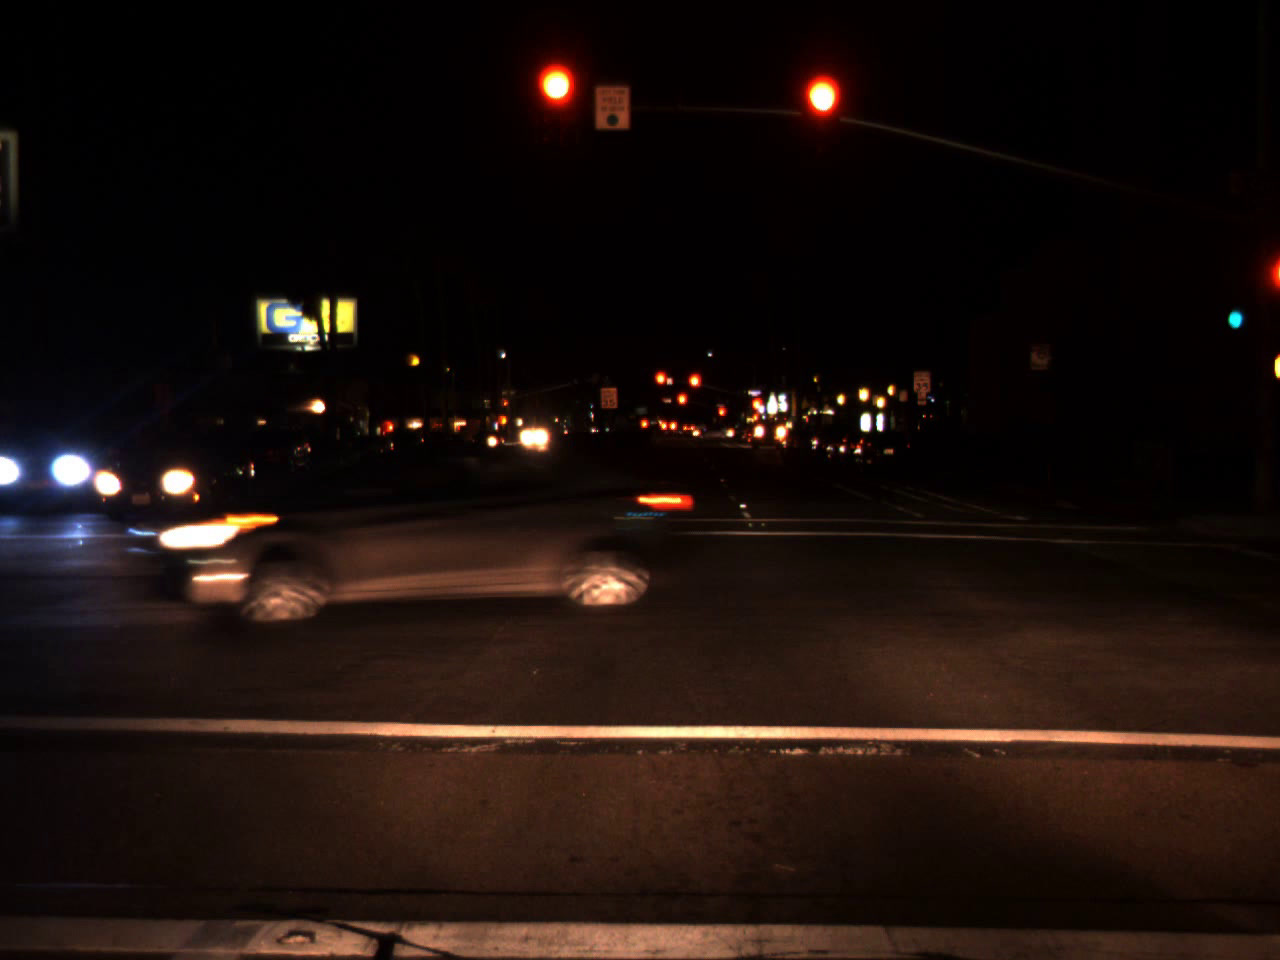stop: (538, 65, 578, 143), (803, 75, 840, 153), (653, 370, 671, 399), (686, 371, 702, 403), (676, 391, 688, 418), (751, 397, 761, 424), (717, 406, 727, 427), (503, 398, 509, 414)
